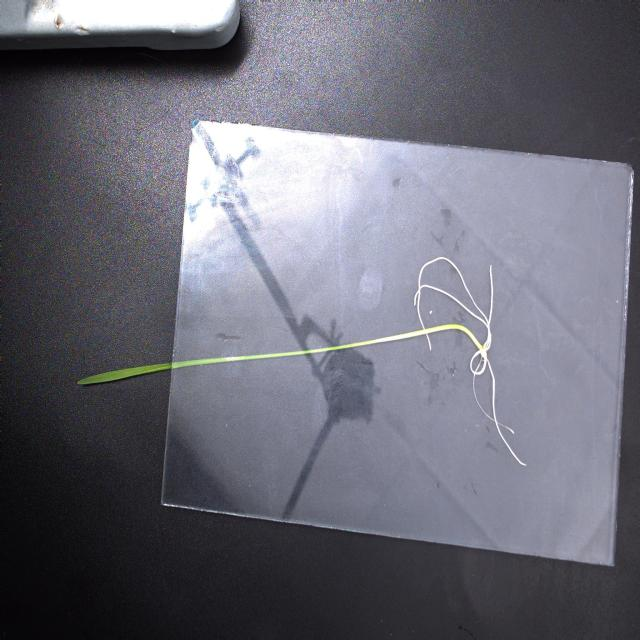leaf: (77, 345, 350, 387)
root: (412, 257, 529, 470)
stem: (350, 324, 485, 351)
